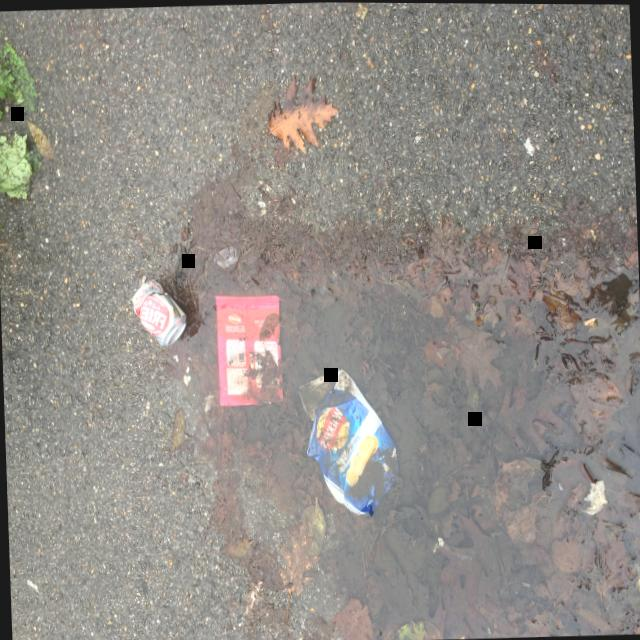Crisp packet: (296, 367, 397, 516), (214, 294, 282, 406)
Drink can: (129, 278, 185, 346)
